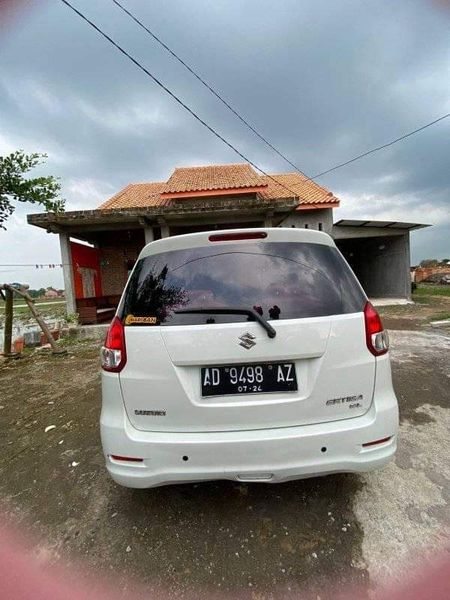plate: (193, 362, 309, 398)
